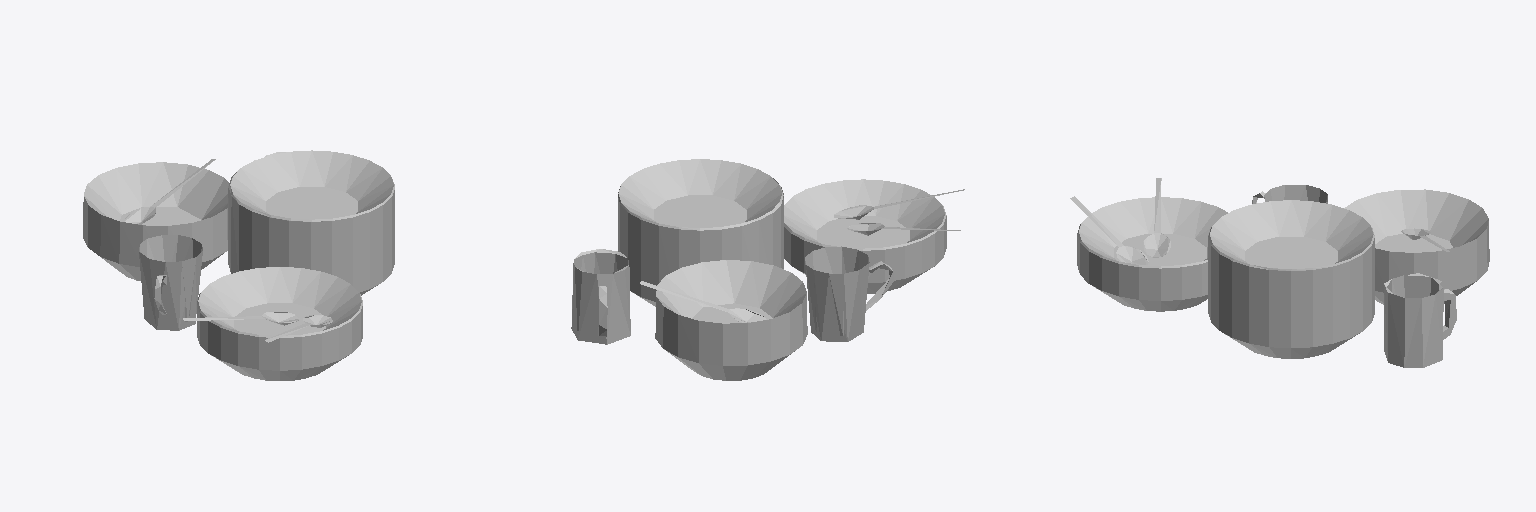
Rendered from Plate_stack_dirty.obj.
3 renders of one model, left to right at view 1: azimuth 30°, elevation 25°; view 2: azimuth 150°, elevation 25°; view 3: azimuth 270°, elevation 25°, orthographic.
Visible parts, largest first — view 1: Plate_Dirty_Stack_LOD0_dish_plate.007; view 2: Plate_Dirty_Stack_LOD0_dish_plate.007; view 3: Plate_Dirty_Stack_LOD0_dish_plate.007.
Boxes of the visible parts, box(x1,y1,x2,y2) form: Plate_Dirty_Stack_LOD0_dish_plate.007: box(83, 150, 394, 380); Plate_Dirty_Stack_LOD0_dish_plate.007: box(571, 159, 964, 380); Plate_Dirty_Stack_LOD0_dish_plate.007: box(1070, 178, 1489, 367).
Bounding box in the file's own units: 0.5648 × 0.2085 × 0.7685.